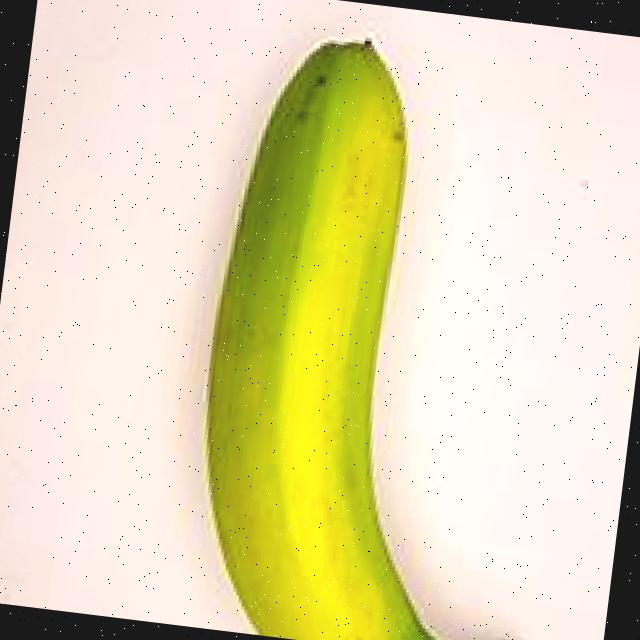Unripe: (144, 2, 640, 640)
